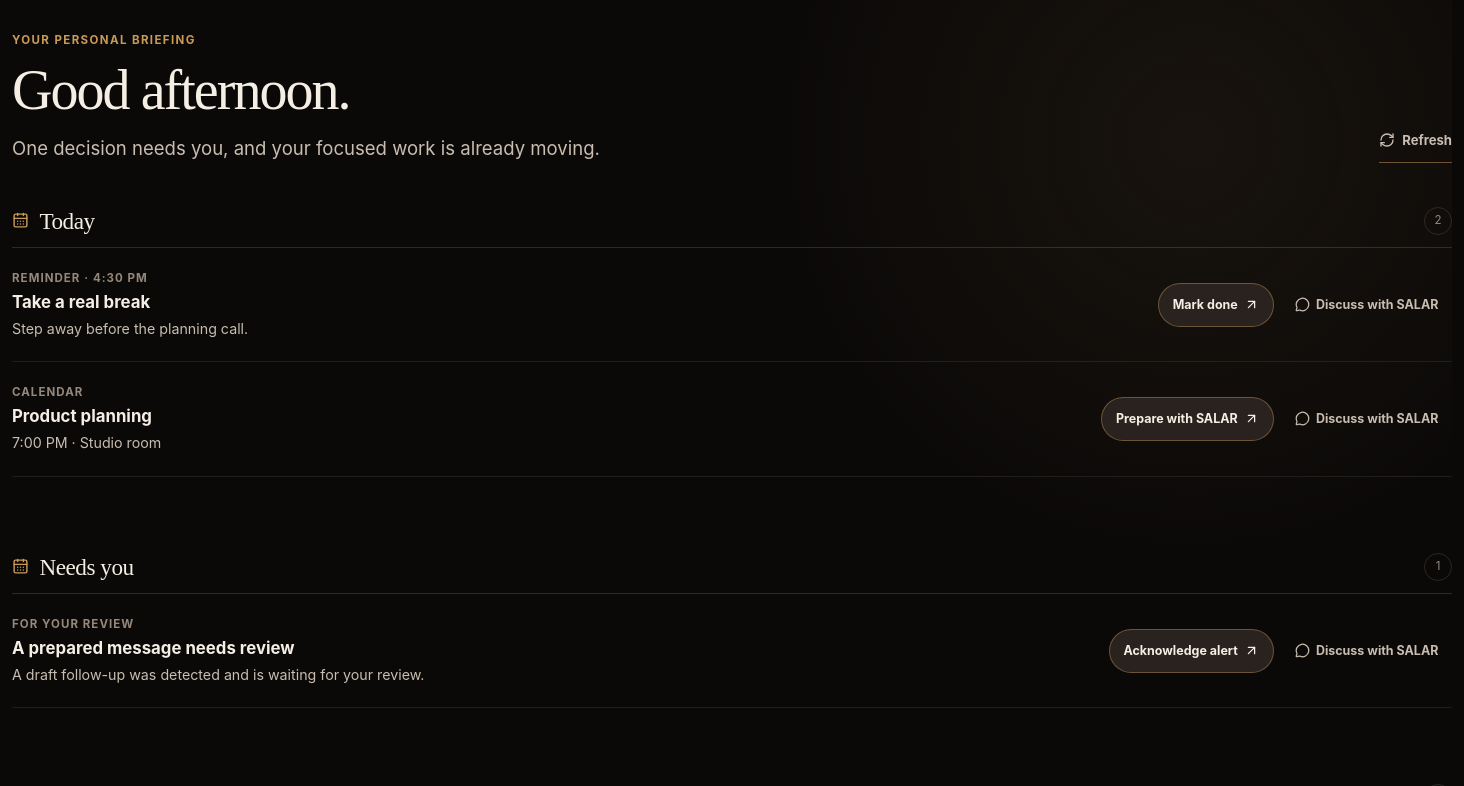
Test: Briefing › runs a reminder's primary action and refreshes the briefing
The width and height of the screenshot is (1464, 786).
Click the button with aria-label "Mark Take a real break done" at (1216,305), box [1158, 283, 1274, 327]
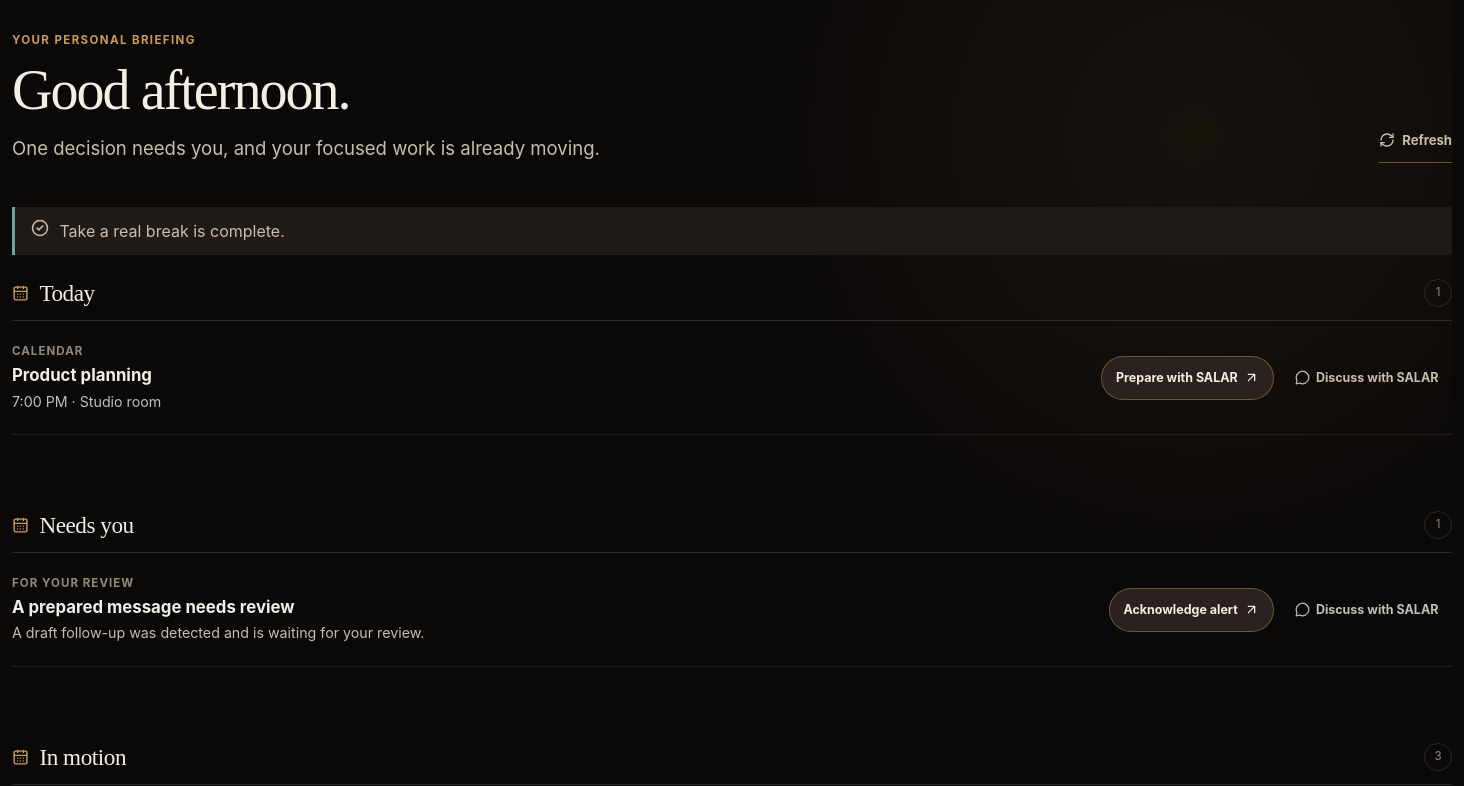
Check: the text "Take a real break is complete." is shown, box [59, 218, 285, 243]
